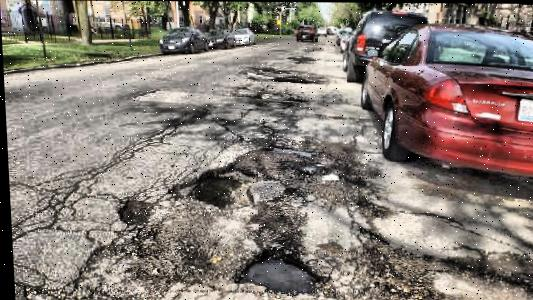pothole: (163, 160, 264, 211), (227, 248, 324, 295), (113, 198, 155, 225), (271, 144, 312, 158), (272, 75, 313, 83), (316, 171, 339, 183)
